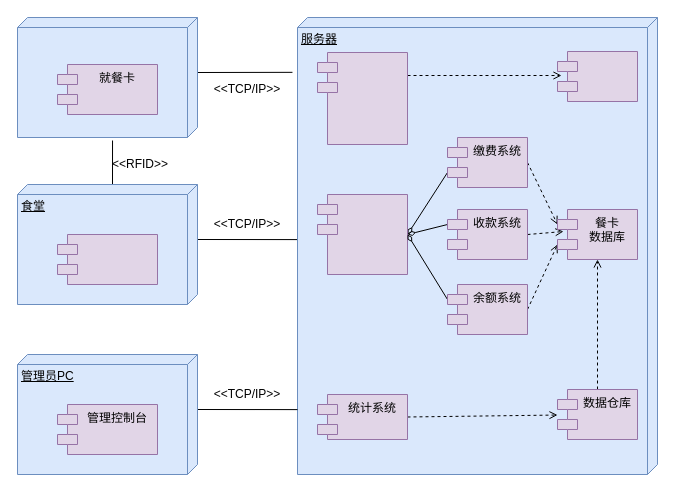
This 675x492 diagram has some shape labels left out. The shapes that lost their labels are listed below. From the top down, each one's box as (x1, y1, x2, y2) in pixels, then its label:
(16, 16, 198, 138): 消费者
(556, 50, 638, 102): 用户 数据库
(316, 52, 408, 144): 用户 管理 系统
(316, 194, 408, 274): 餐卡 管理 系统
(56, 234, 158, 284): 收款机
